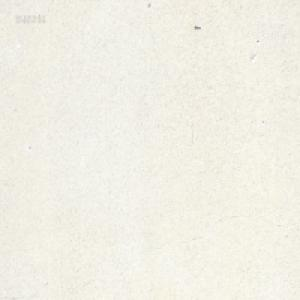Nail: (194, 25, 200, 30)
